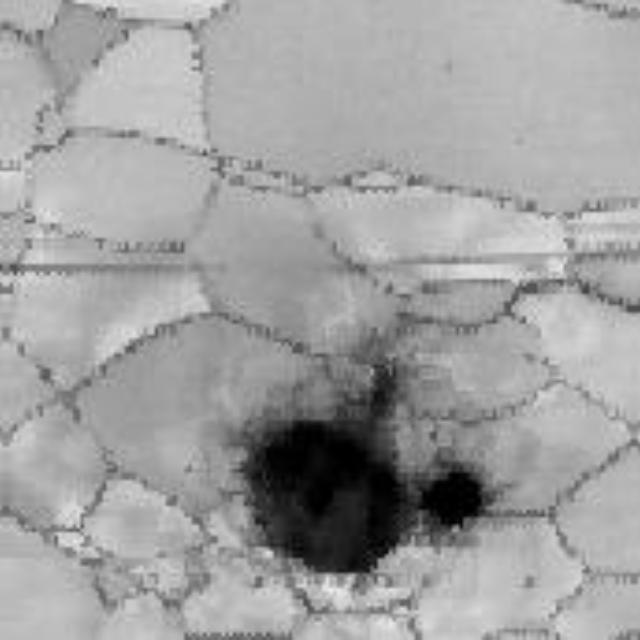good_void: (238, 324, 420, 580), (415, 462, 509, 551)
